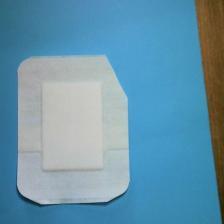Cut: (15, 51, 131, 208)
